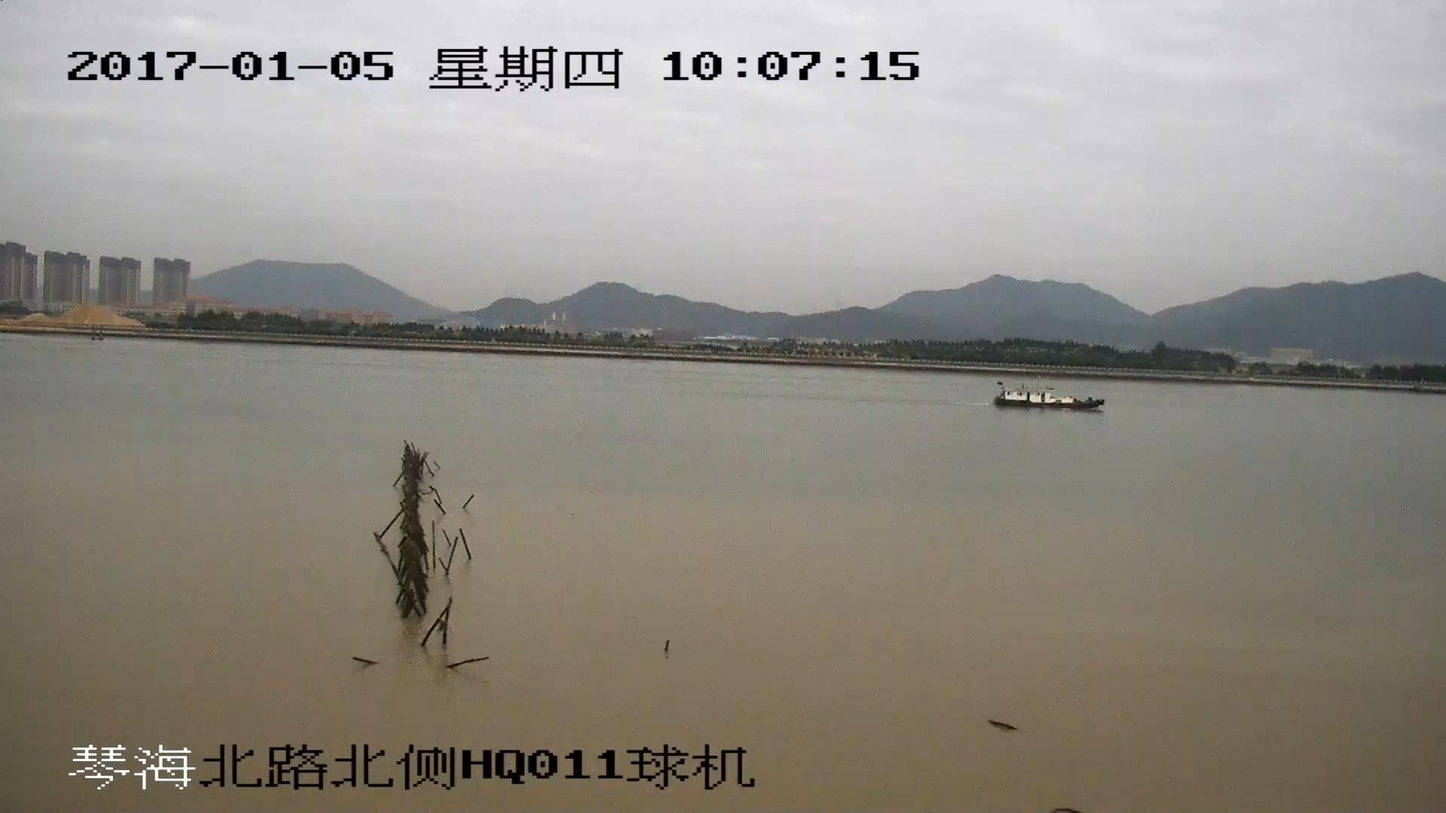fishing boat: (996, 382, 1102, 410)
